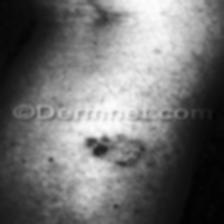Potentially Malignant Skin Tumors: (68, 132, 148, 166)
